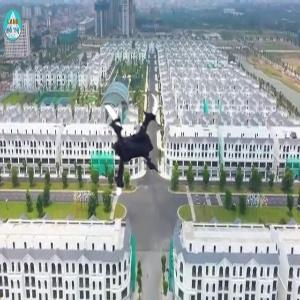drone: (70, 84, 184, 198)
